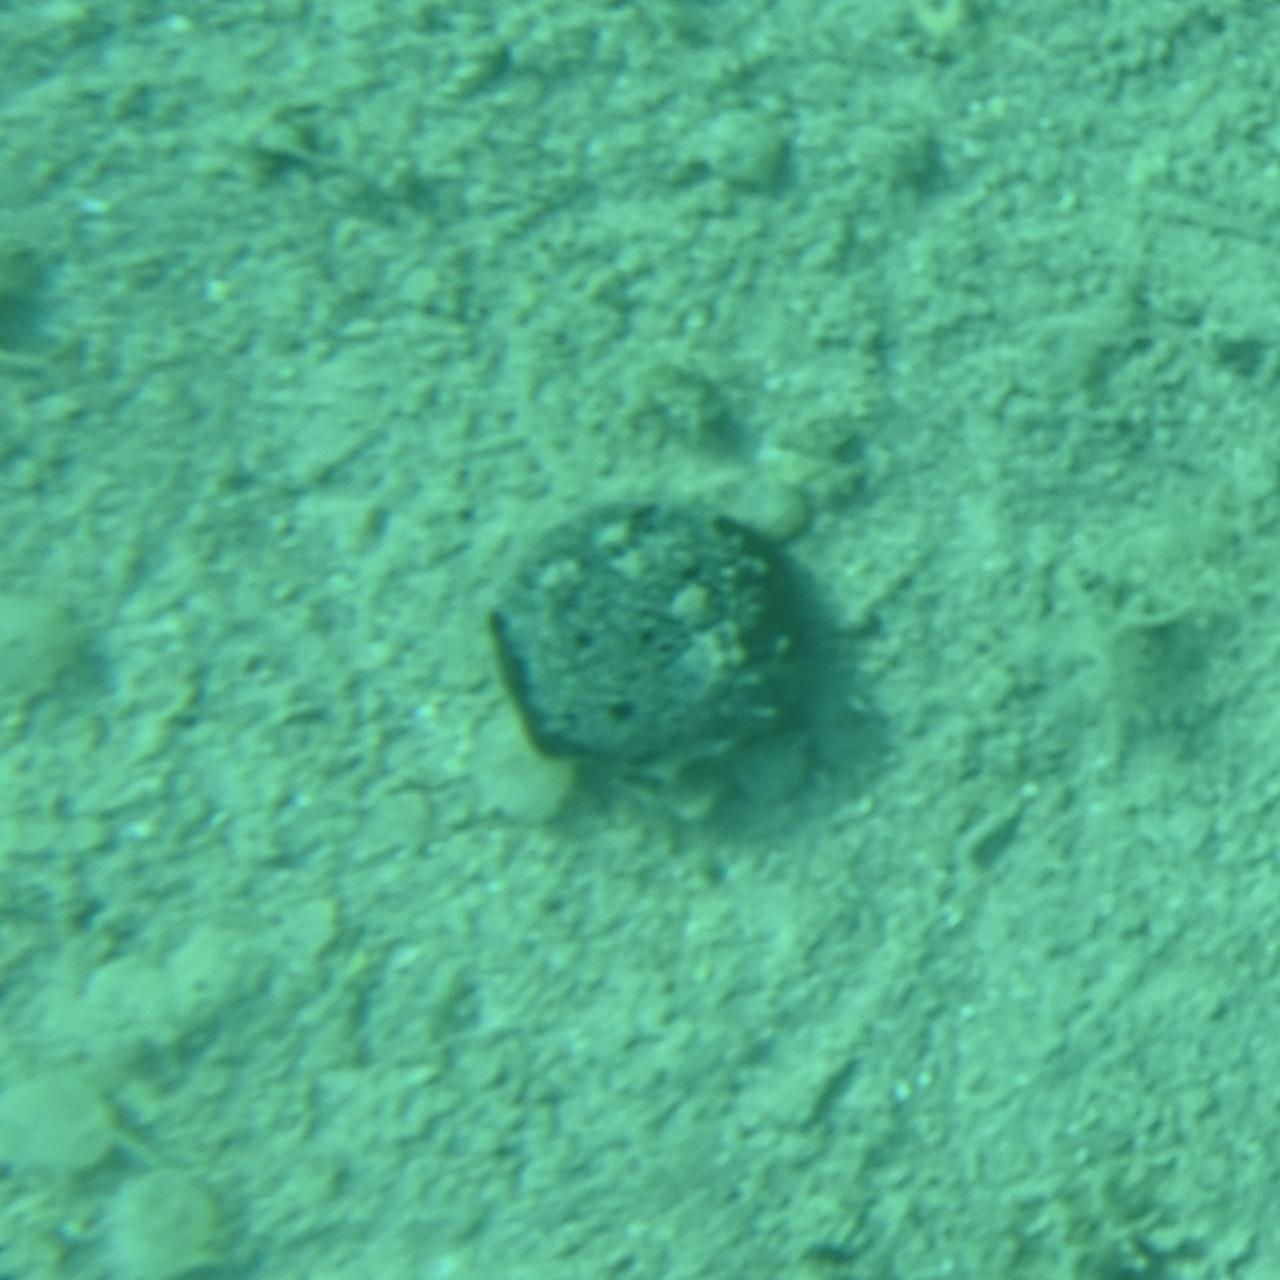Sarcotragus spinosulus: (468, 492, 812, 788)
